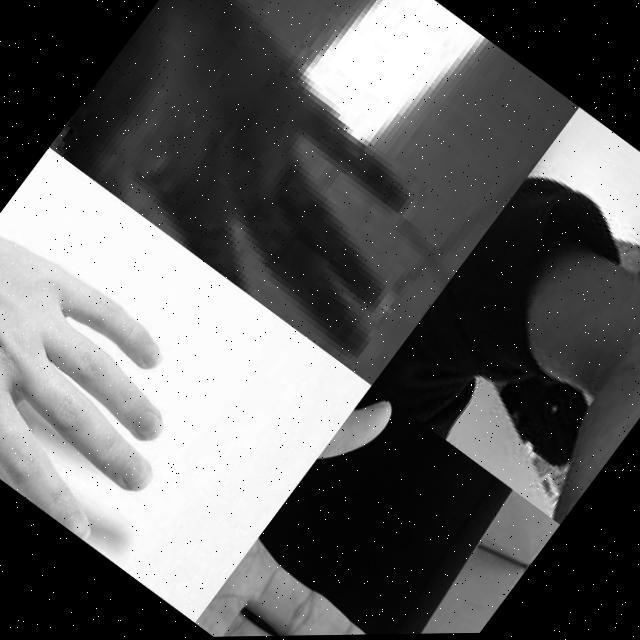no-gloves: (49, 0, 501, 378), (194, 389, 524, 638), (0, 206, 234, 557), (408, 182, 640, 528)
